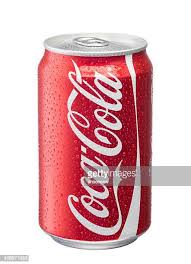can: (31, 29, 159, 252)
